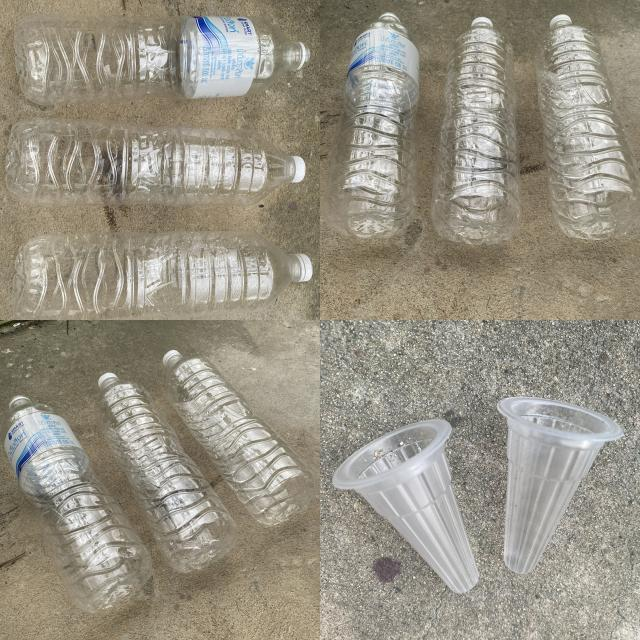Single-Use-Plastic: (332, 420, 479, 592), (498, 398, 624, 574)
